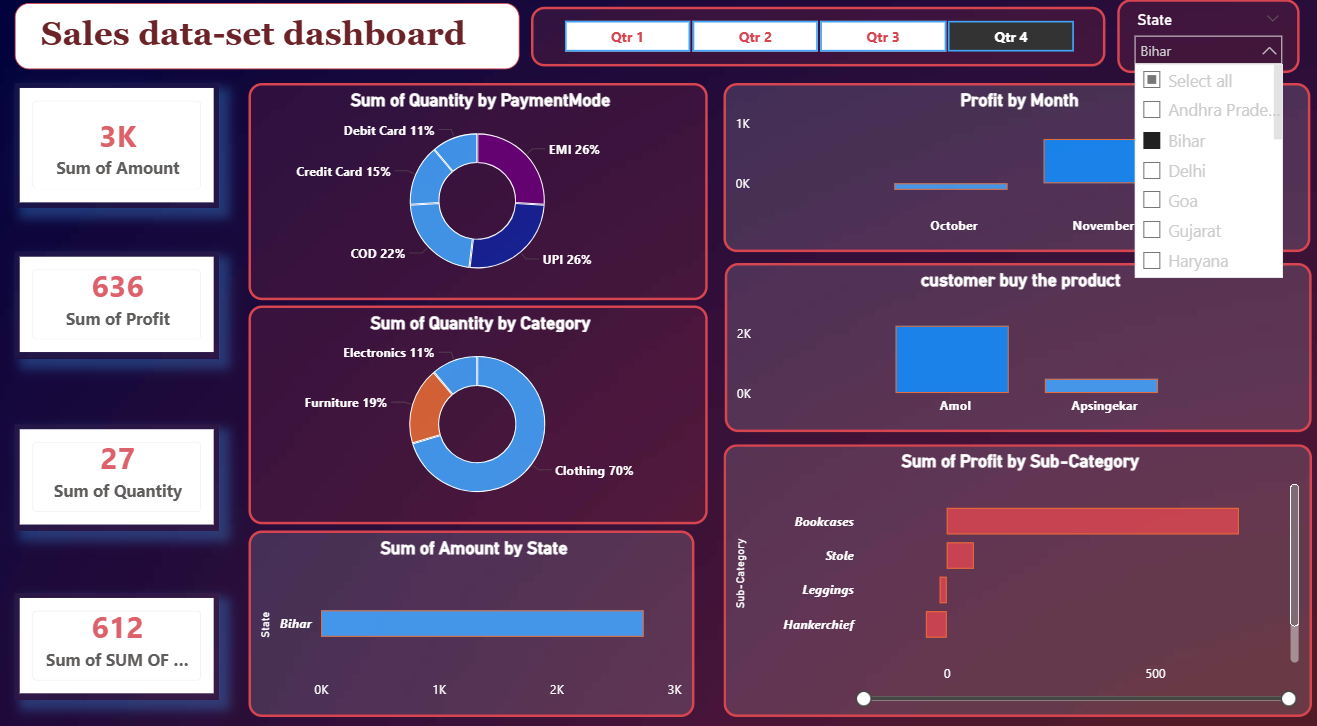

Layout of this report page (visuals, bound fields, positions):
{"tool":"powerbi","page":{"name":"Page 1","canvas":[1280,720],"ordinal":0},"visuals":[{"type":"textbox","box":[18.1,9.7,487.4,63.9],"z":0},{"type":"columnChart","title":"Profit by Month","fields":{"Category":["Orders.Order Date.Variation.Date Hierarchy.Month"],"Y":["Sum(Details.Profit)"]},"box":[702.6,86.4,566.7,163.3],"z":1000},{"type":"columnChart","title":"customer buy the product","fields":{"Y":["Sum(Details.Amount)"],"Category":["Orders.CustomerName"]},"box":[703.9,260.7,566.7,163.3],"z":2000},{"type":"barChart","fields":{"Y":["Sum(Details.Profit)"],"Category":["Details.Sub-Category"]},"box":[702.6,435,568.1,263.5],"z":3000},{"type":"donutChart","fields":{"Category":["Details.Category"],"Y":["Sum(Details.Quantity)"]},"box":[244.3,301.9,443.2,211.3],"z":4000},{"type":"donutChart","fields":{"Y":["Sum(Details.Quantity)"],"Category":["Details.PaymentMode"]},"box":[244.3,86.4,443.2,209.9],"z":5000},{"type":"cardVisual","fields":{"Data":["Sum(Details.Amount)"]},"box":[17.8,86.4,197.6,120.8],"z":6000},{"type":"cardVisual","fields":{"Data":["Sum(Details.Profit)"]},"box":[17.8,249.7,197.6,102.9],"z":7000},{"type":"cardVisual","fields":{"Data":["Sum(Details.Quantity)"]},"box":[17.8,415.8,197.6,102.9],"z":8000},{"type":"cardVisual","fields":{"Data":["Sum(Details.SUM OF AVG)"]},"box":[17.8,579.1,197.6,102.9],"z":9000},{"type":"barChart","fields":{"Category":["Orders.State"],"Y":["Sum(Details.Amount)"]},"box":[243.7,518.8,430.7,179.8],"z":10000},{"type":"slicer","fields":{"Values":["Orders.Order Date.Variation.Date Hierarchy.Quarter"]},"box":[516,13.7,554.4,57.6],"z":11000},{"type":"slicer","fields":{"Values":["Orders.State"]},"box":[1082.7,5.5,175.6,71],"z":12000}]}

Visuals, with their boxes in screenshot pixels (x1, y1, x2, y2), scaled from the page's 1280x720 canvas onto the 1317x726 screenshot:
textbox: [left=19, top=10, right=520, bottom=74]
"Profit by Month" columnChart: [left=723, top=87, right=1306, bottom=252]
"customer buy the product" columnChart: [left=724, top=263, right=1307, bottom=428]
barChart - Sum(Details.Profit) x Details.Sub-Category: [left=723, top=439, right=1307, bottom=704]
donutChart - Details.Category x Sum(Details.Quantity): [left=251, top=304, right=707, bottom=517]
donutChart - Sum(Details.Quantity) x Details.PaymentMode: [left=251, top=87, right=707, bottom=299]
cardVisual - Sum(Details.Amount): [left=18, top=87, right=222, bottom=209]
cardVisual - Sum(Details.Profit): [left=18, top=252, right=222, bottom=356]
cardVisual - Sum(Details.Quantity): [left=18, top=419, right=222, bottom=523]
cardVisual - Sum(Details.SUM OF AVG): [left=18, top=584, right=222, bottom=688]
barChart - Orders.State x Sum(Details.Amount): [left=251, top=523, right=694, bottom=704]
slicer - Orders.Order Date.Variation.Date Hierarchy.Quarter: [left=531, top=14, right=1101, bottom=72]
slicer - Orders.State: [left=1114, top=6, right=1295, bottom=77]
